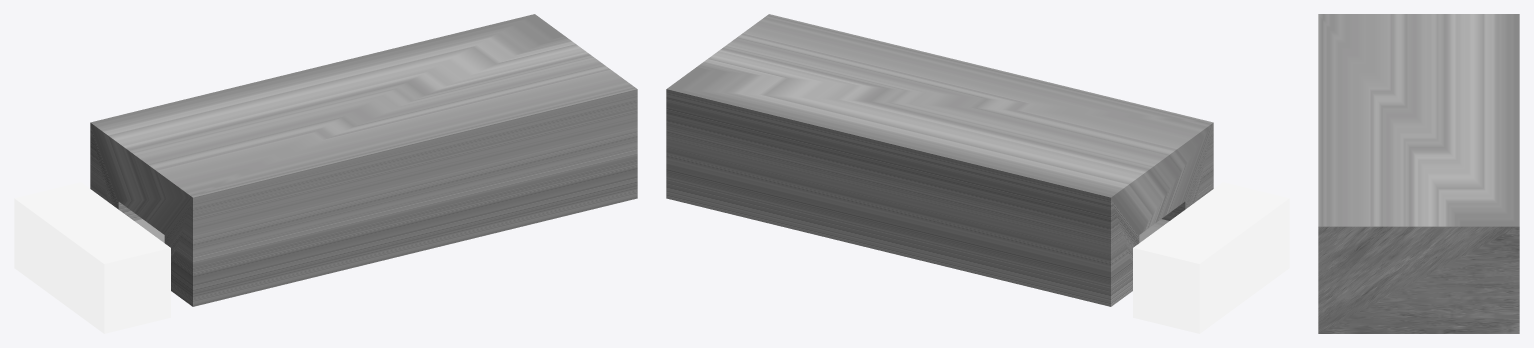
Rendered from Warehouse no door.glb.
3 renders of one model, left to right at view 1: azimuth 30°, elevation 25°; view 2: azimuth 150°, elevation 25°; view 3: azimuth 270°, elevation 25°, orthographic.
Visible parts, largest first — view 1: Walls and Floor, "Outside"; view 2: Walls and Floor, "Outside"; view 3: Walls and Floor.
Part boxes in pixels (left/top/right/bottom): Walls and Floor: left=90, top=14, right=637, bottom=306; "Outside": left=14, top=182, right=170, bottom=333; Walls and Floor: left=666, top=14, right=1213, bottom=306; "Outside": left=1133, top=182, right=1289, bottom=333; Walls and Floor: left=1318, top=14, right=1519, bottom=333.
Size of the model in its own units: 23.7 by 5.2 by 8.
Materials: 2 (1 with a texture image).
